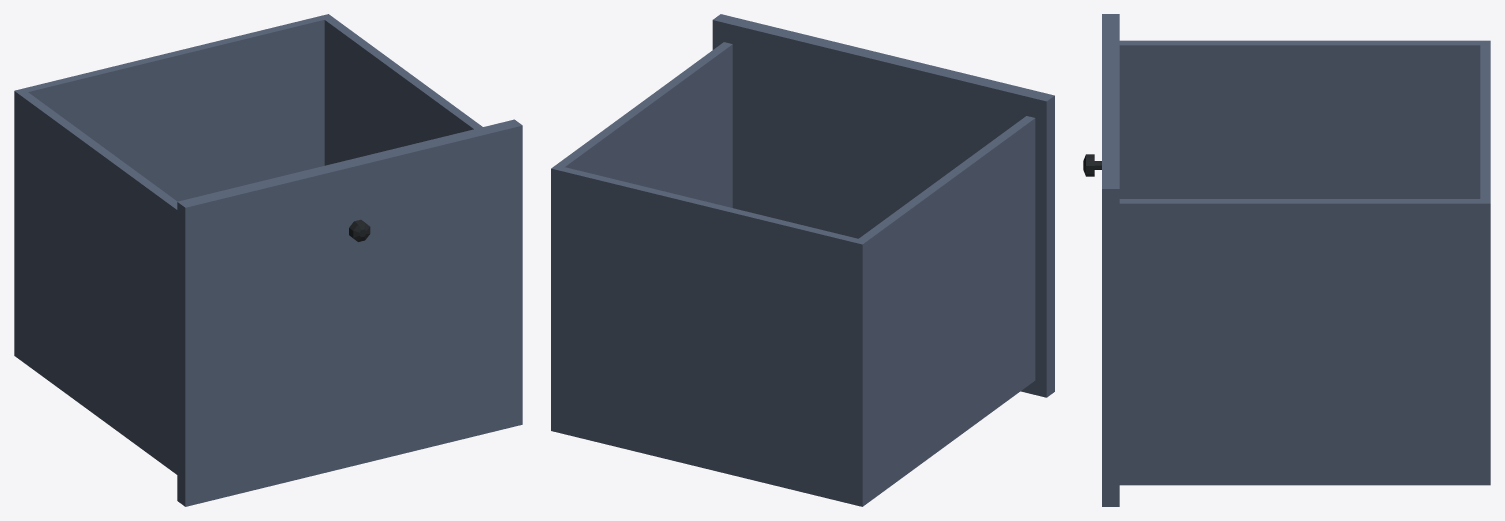
File: Door3_C4_06.fbx
3 views of the same model, side by side, from view 1: azimuth 30°, elevation 25°; view 2: azimuth 150°, elevation 25°; view 3: azimuth 270°, elevation 25° (orthographic). The views are drawn at different scales.
Visible parts, largest first — view 1: Door3_C4_06; view 2: Door3_C4_06; view 3: Door3_C4_06.
Part boxes in pixels (left/top/right/bottom): Door3_C4_06: left=14, top=14, right=522, bottom=506; Door3_C4_06: left=551, top=14, right=1054, bottom=506; Door3_C4_06: left=1083, top=14, right=1490, bottom=506.
Size of the model in its own units: 59 by 50 by 58.03.
